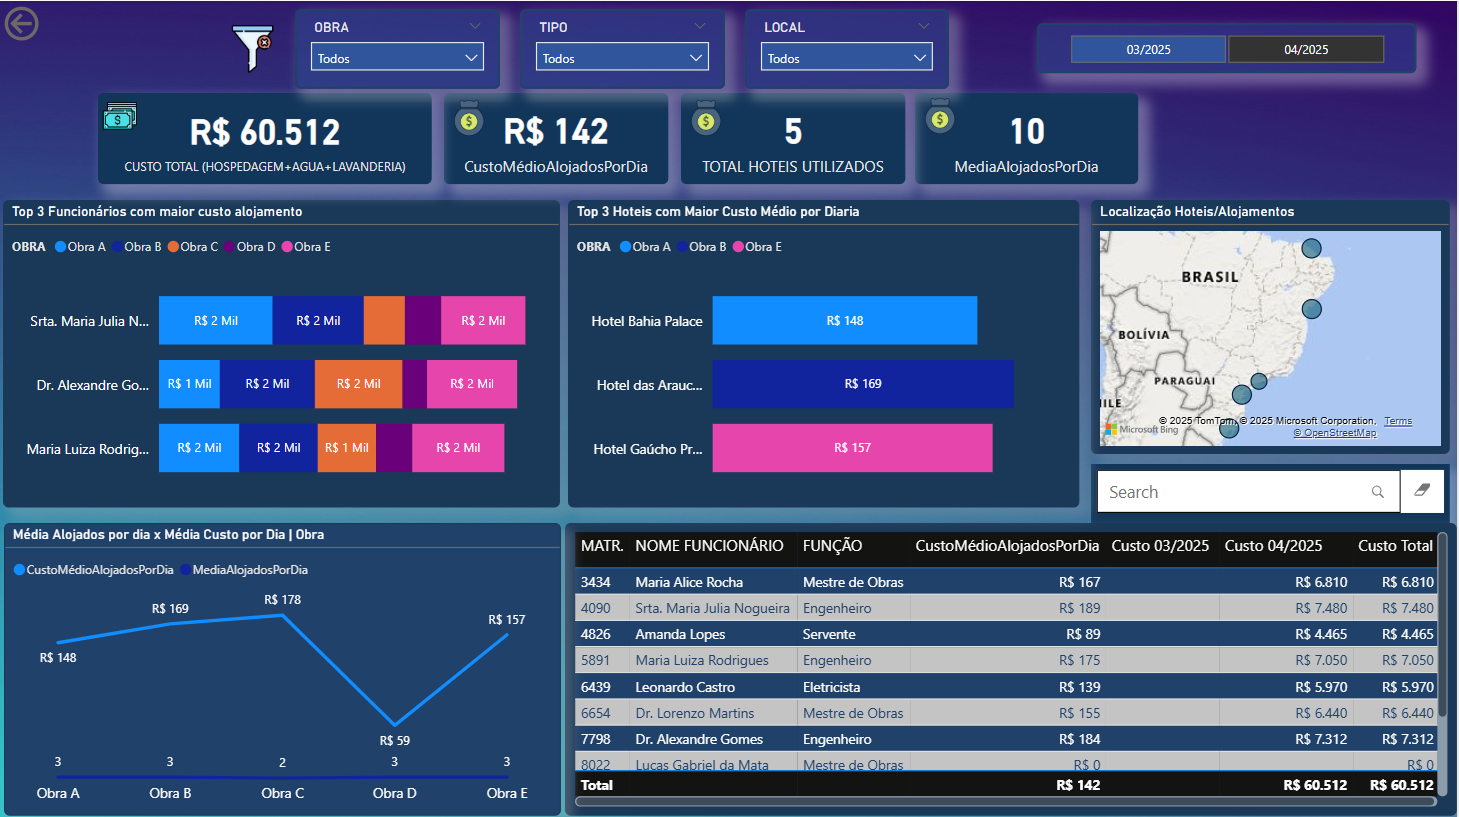

The dashboard page shown, as its layout file describes it:
{"tool":"powerbi","page":{"name":"Funcionarios","canvas":[1280,720],"ordinal":2},"visuals":[{"type":"card","title":"MÉDIA PESSOAS ALOJADAS/DIA","fields":{"Values":["MEDIDAS MEDIAS.MediaAlojadosPorDia"]},"box":[804.3,80.8,195.8,79.9],"z":0},{"type":"barChart","title":"Top 3 Funcionários com maior custo alojamento","fields":{"Y":["MEDIDAS.CUSTO TOTAL"],"Series":["tb_hipotetica.OBRA"],"Category":["tb_hipotetica.NOME FUNCIONÁRIO"]},"box":[3.5,174.7,489.1,270.4],"z":1000},{"type":"card","title":"MÉDIA PESSOAS ALOJADAS/DIA","fields":{"Values":["MEDIDAS MEDIAS.CustoMédioAlojadosPorDia"]},"box":[390.7,80.8,196.7,79.9],"z":2000},{"type":"map","title":"Localização Hoteis/Alojamentos","fields":{"Category":["tb_hipotetica.LOCAL"],"Size":["MEDIDAS MEDIAS.MediaAlojadosPorDia"]},"box":[958.8,174.7,315.2,223],"z":3000},{"type":"card","title":"MÉDIA PESSOAS ALOJADAS/DIA","fields":{"Values":["MEDIDAS.CUSTO TOTAL"]},"box":[86.9,80.8,293.3,79.9],"z":4000},{"type":"textFilter25A4896A83E0487089E2B90C9AE57C8A","title":"MÉDIA PESSOAS ALOJADAS/DIA","fields":{"field":["tb_hipotetica.NOME FUNCIONÁRIO"]},"box":[958.8,406.5,315.2,51.8],"z":5000},{"type":"card","title":"MÉDIA PESSOAS ALOJADAS/DIA","fields":{"Values":["MEDIDAS.Total hoteis visitados"]},"box":[598.8,80.8,196.7,79.9],"z":6000},{"type":"tableEx","title":"Top 10 Hoteis com Maior Custo Médio por Diaria","fields":{"Values":["tb_hipotetica.MATR.","tb_hipotetica.NOME FUNCIONÁRIO","tb_hipotetica.FUNÇÃO","MEDIDAS MEDIAS.CustoMédioAlojadosPorDia","MEDIDAS.CUSTO 032025","MEDIDAS.CUSTO 042025","MEDIDAS.CUSTO TOTAL"]},"box":[497,458.3,783.2,257.3],"z":7000},{"type":"lineChart","title":"Média Alojados por dia x Média Custo por Dia | Obra","fields":{"Category":["tb_hipotetica.OBRA"],"Y":["MEDIDAS MEDIAS.CustoMédioAlojadosPorDia","MEDIDAS MEDIAS.MediaAlojadosPorDia"]},"box":[4.4,458.3,489.1,257.3],"z":8000},{"type":"slicer","title":"MÉDIA PESSOAS ALOJADAS/DIA","fields":{"Values":["tb_hipotetica.TIPO"]},"box":[457.5,6.8,180,69.6],"z":9000},{"type":"slicer","title":"MÉDIA PESSOAS ALOJADAS/DIA","fields":{"Values":["CALENDARIO.MES CUSTO"]},"box":[911.4,19.3,332.8,43.9],"z":10000},{"type":"slicer","title":"MÉDIA PESSOAS ALOJADAS/DIA","fields":{"Values":["tb_hipotetica.OBRA"]},"box":[260.1,6.8,180.2,69.6],"z":11000},{"type":"slicer","title":"MÉDIA PESSOAS ALOJADAS/DIA","fields":{"Values":["tb_hipotetica.LOCAL"]},"box":[654.8,6.8,179.1,69.6],"z":12000},{"type":"image","box":[804.5,78.6,44.2,44.2],"z":13000},{"type":"image","box":[599.2,80.6,44.2,44.2],"z":14000},{"type":"image","box":[391,80.6,44.2,44.2],"z":15000},{"type":"image","box":[86.4,80.6,40.3,40.3],"z":16000},{"type":"image","box":[196.5,13.8,52.1,55],"z":17000},{"type":"actionButton","box":[0,0,45,39.7],"z":18000},{"type":"barChart","title":"Top 3 Hoteis com Maior Custo Médio por Diaria","fields":{"Series":["tb_hipotetica.OBRA"],"Y":["MEDIDAS MEDIAS.CustoMédioAlojadosPorDia"],"Category":["tb_hipotetica.FORNECEDOR HOTEL/ALOJ"]},"box":[499.6,174.7,448.7,270.4],"z":19000}]}

Visuals, with their boxes in screenshot pixels (x1, y1, x2, y2), scaled from the page's 1280x720 canvas onto the 1459x817 screenshot:
"MÉDIA PESSOAS ALOJADAS/DIA" card: locate(917, 92, 1140, 182)
"Top 3 Funcionários com maior custo alojamento" barChart: locate(4, 198, 561, 505)
"MÉDIA PESSOAS ALOJADAS/DIA" card: locate(445, 92, 670, 182)
"Localização Hoteis/Alojamentos" map: locate(1093, 198, 1452, 451)
"MÉDIA PESSOAS ALOJADAS/DIA" card: locate(99, 92, 433, 182)
"MÉDIA PESSOAS ALOJADAS/DIA" textFilter25A4896A83E0487089E2B90C9AE57C8A: locate(1093, 461, 1452, 520)
"MÉDIA PESSOAS ALOJADAS/DIA" card: locate(683, 92, 907, 182)
"Top 10 Hoteis com Maior Custo Médio por Diaria" tableEx: locate(567, 520, 1458, 812)
"Média Alojados por dia x Média Custo por Dia | Obra" lineChart: locate(5, 520, 563, 812)
"MÉDIA PESSOAS ALOJADAS/DIA" slicer: locate(521, 8, 727, 87)
"MÉDIA PESSOAS ALOJADAS/DIA" slicer: locate(1039, 22, 1418, 72)
"MÉDIA PESSOAS ALOJADAS/DIA" slicer: locate(296, 8, 502, 87)
"MÉDIA PESSOAS ALOJADAS/DIA" slicer: locate(746, 8, 951, 87)
image: locate(917, 89, 967, 139)
image: locate(683, 91, 733, 142)
image: locate(446, 91, 496, 142)
image: locate(98, 91, 144, 137)
image: locate(224, 16, 283, 78)
actionButton: locate(0, 0, 51, 45)
"Top 3 Hoteis com Maior Custo Médio por Diaria" barChart: locate(569, 198, 1081, 505)
